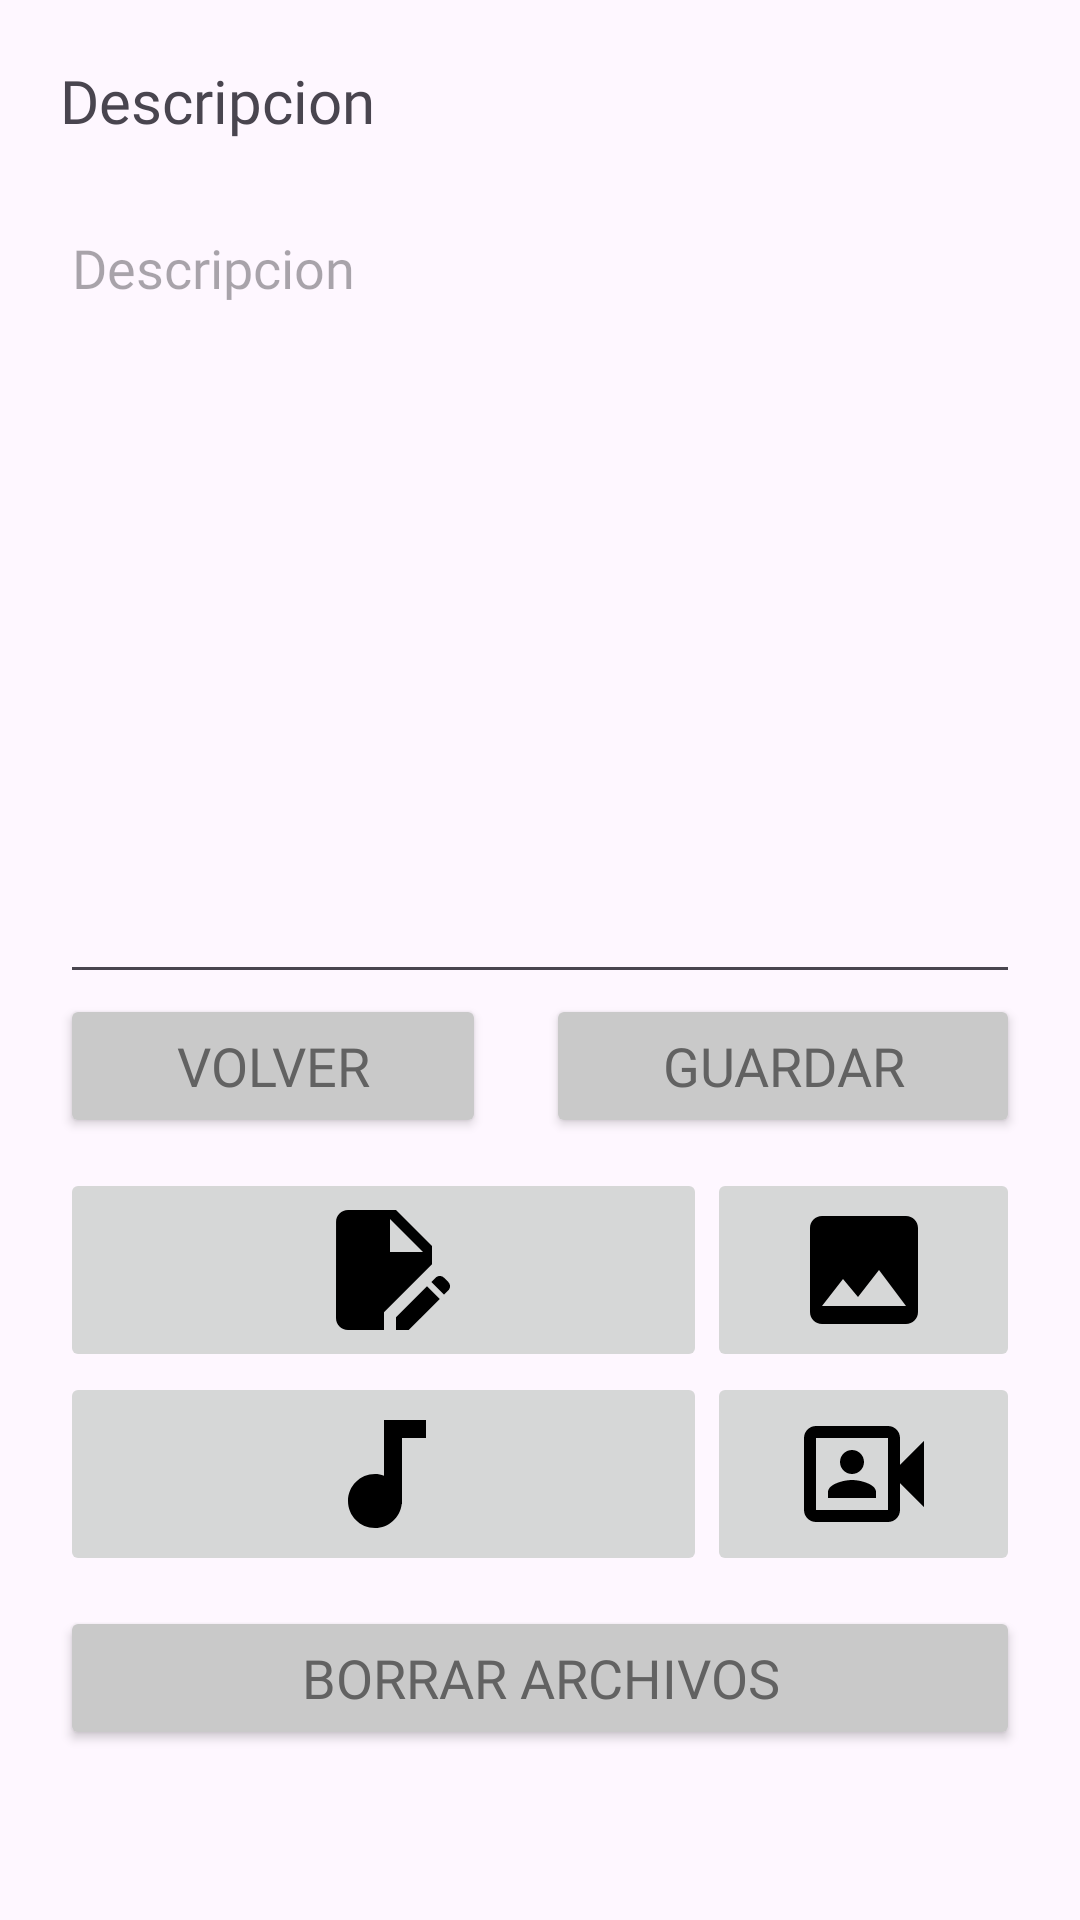

Screen size 1080x1920. Icon name, then its center in pixels as (x,y):
photo: (863,1270)
photo camera front: (863,1474)
